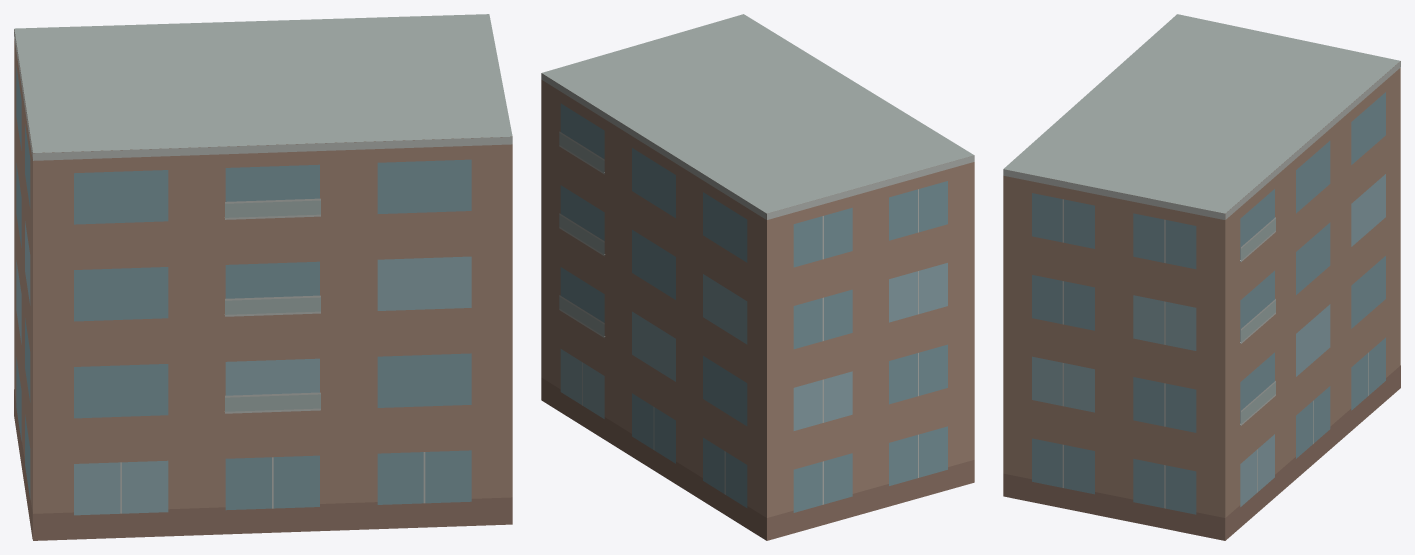
The model's file is survey-upis-32568772.glb.
3 views of the same model, side by side, from view 1: azimuth 30°, elevation 25°; view 2: azimuth 150°, elevation 25°; view 3: azimuth 270°, elevation 25° (orthographic). The views are drawn at different scales.
Parts seen in each view (by area): view 1: survey-upis-32568772.tmp; view 2: survey-upis-32568772.tmp; view 3: survey-upis-32568772.tmp.
Part boxes in pixels (bbox=[...]): survey-upis-32568772.tmp: bbox=[14, 14, 512, 540]; survey-upis-32568772.tmp: bbox=[541, 14, 974, 540]; survey-upis-32568772.tmp: bbox=[1003, 14, 1400, 540].
Bounding box in the file's own units: 15.97 × 12.2 × 13.44.
